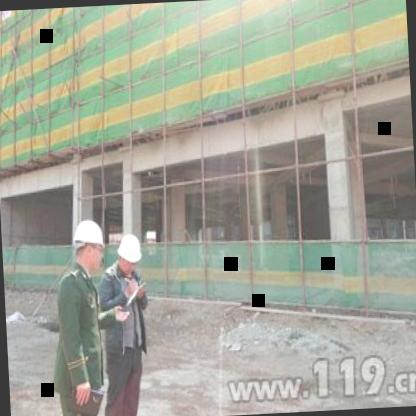helmet: (70, 214, 109, 272), (114, 230, 140, 276)
